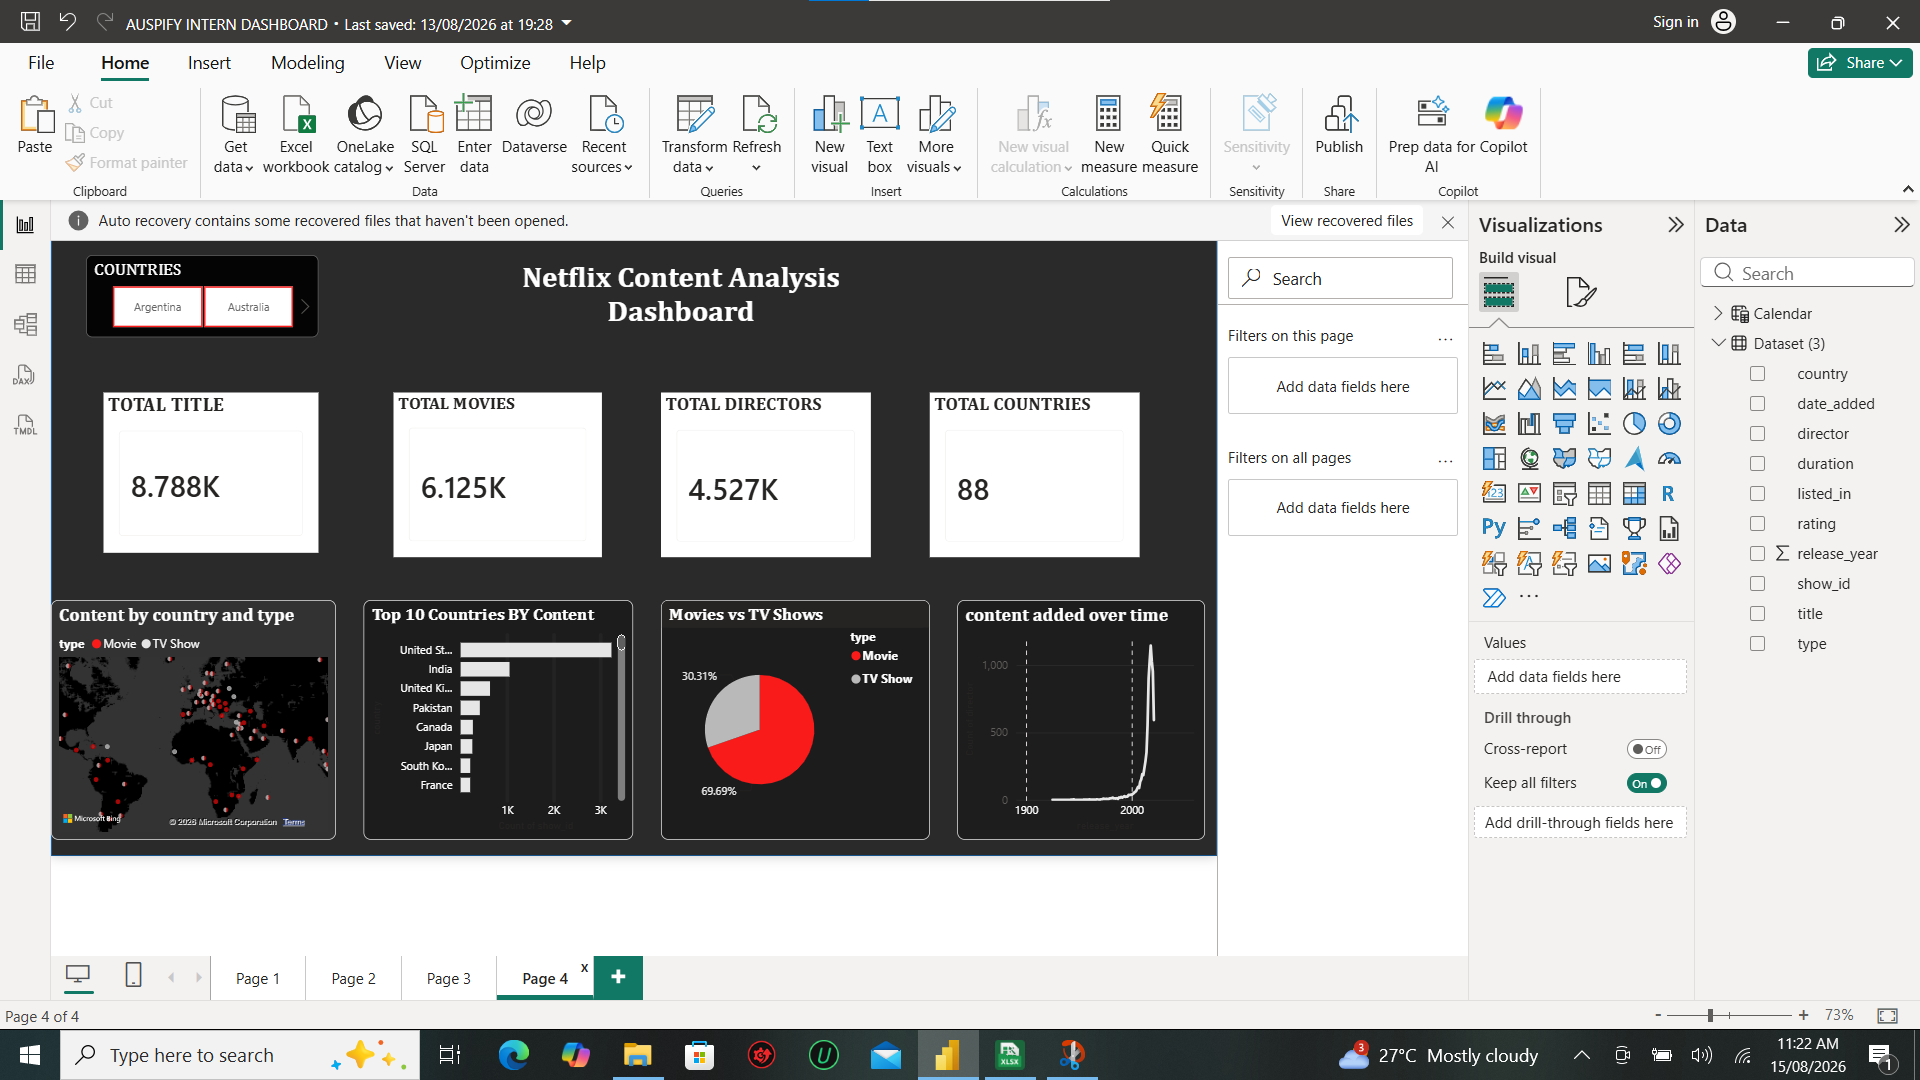

The page's visual inventory and layout, read from the dashboard file:
{"tool":"powerbi","page":{"name":"Page 4","canvas":[1280,720],"ordinal":3},"visuals":[{"type":"shape","box":[0,0,1280.3,720.4],"z":0},{"type":"pieChart","title":"Movies vs TV Shows","fields":{"Y":["CountNonNull(Dataset (3).show_id)"],"Category":["Dataset (3).type"]},"box":[669.6,439.1,295,263.5],"z":1000},{"type":"map","title":"Content by country and type","fields":{"Category":["Dataset (3).country"],"Series":["Dataset (3).type"]},"box":[0,439.1,312.9,263.5],"z":3000},{"type":"clusteredBarChart","title":"Top 10 Countries BY Content","fields":{"Category":["Dataset (3).country"],"Y":["CountNonNull(Dataset (3).show_id)"]},"box":[343.1,439.1,296.4,263.5],"z":4000},{"type":"slicer","title":"COUNTRIES","fields":{"Values":["Dataset (3).country"]},"box":[38.4,60.4,255.2,90.6],"z":5000},{"type":"lineChart","title":"content added over time","fields":{"Category":["Dataset (3).release_year"],"Y":["CountNonNull(Dataset (3).director)"]},"box":[994.9,439.1,271.7,263.5],"z":6000},{"type":"textbox","box":[439.1,60.4,505,126.2],"z":6001},{"type":"cardVisual","title":"TOTAL MOVIES","fields":{"Data":["Count(Dataset (3).show_id)"]},"box":[376,211.3,229.2,181.1],"z":6002},{"type":"cardVisual","title":"TOTAL DIRECTORS","fields":{"Data":["Count(Dataset (3).director)"]},"box":[669.6,211.3,230.5,181.1],"z":6003},{"type":"cardVisual","title":"TOTAL COUNTRIES","fields":{"Data":["Count(Dataset (3).country)"]},"box":[964.7,211.3,230.5,181.1],"z":6004},{"type":"cardVisual","title":"TOTAL  TITLE","fields":{"Data":["Count(Dataset (3).show_id)"]},"box":[57.6,211.3,236,175.6],"z":6005}]}

Visuals, with their boxes on the page's 1280x720 design canvas (x1, y1, x2, y2). These are canvas units, not pixel positions in the 1920x1080 screenshot, which may show the page scaled, cropped or inside an application window:
shape: (x1=0, y1=0, x2=1280, y2=720)
"Movies vs TV Shows" pieChart: (x1=670, y1=439, x2=965, y2=703)
"Content by country and type" map: (x1=0, y1=439, x2=313, y2=703)
"Top 10 Countries BY Content" clusteredBarChart: (x1=343, y1=439, x2=640, y2=703)
"COUNTRIES" slicer: (x1=38, y1=60, x2=294, y2=151)
"content added over time" lineChart: (x1=995, y1=439, x2=1267, y2=703)
textbox: (x1=439, y1=60, x2=944, y2=187)
"TOTAL MOVIES" cardVisual: (x1=376, y1=211, x2=605, y2=392)
"TOTAL DIRECTORS" cardVisual: (x1=670, y1=211, x2=900, y2=392)
"TOTAL COUNTRIES" cardVisual: (x1=965, y1=211, x2=1195, y2=392)
"TOTAL  TITLE" cardVisual: (x1=58, y1=211, x2=294, y2=387)
